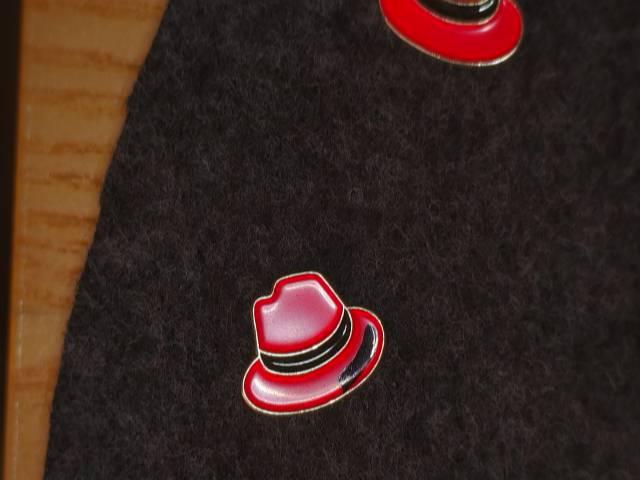Red-Hat: (223, 243, 422, 441), (362, 0, 560, 97)
Scratch: (332, 307, 393, 413)
